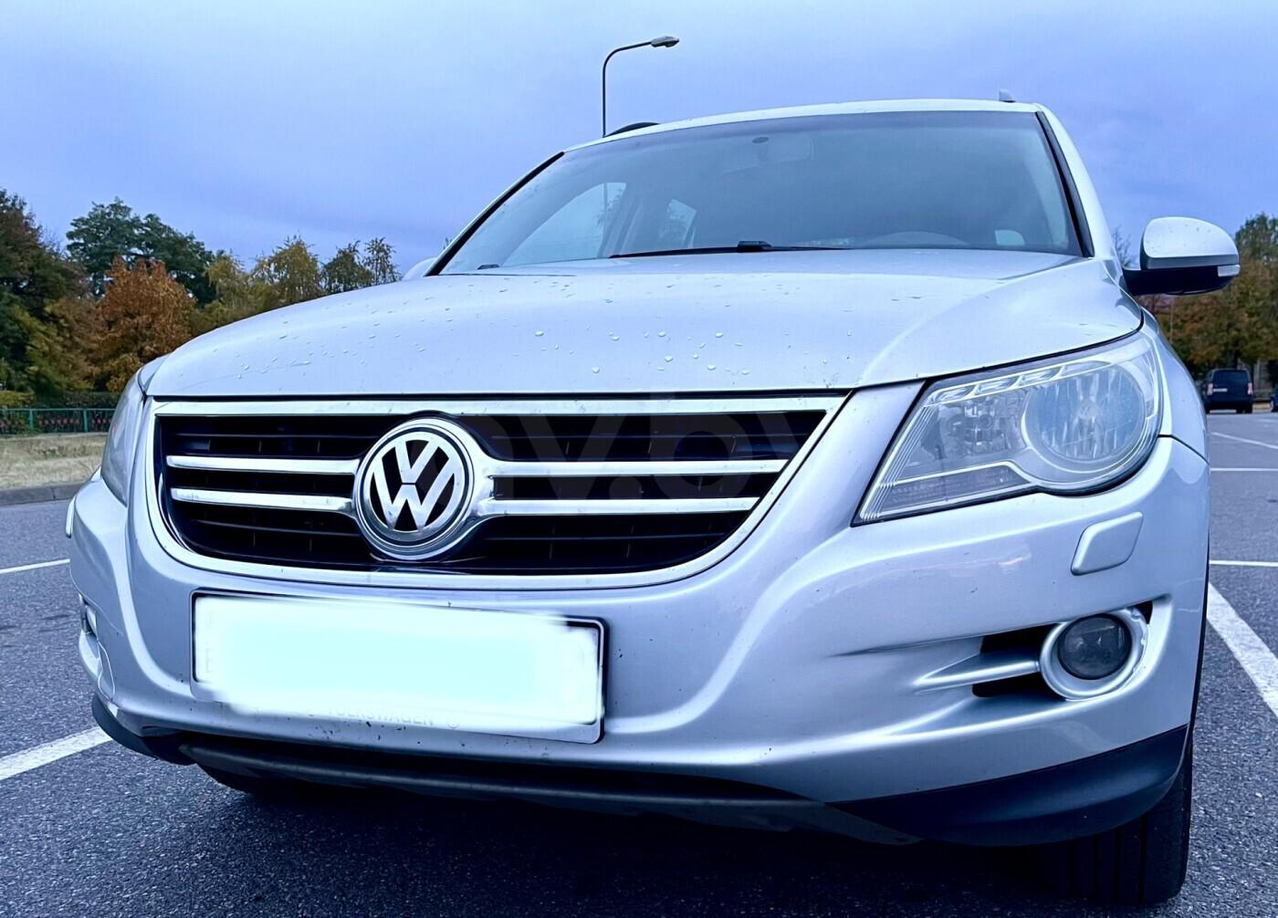Tiguan_2007-2011: (64, 93, 1243, 898)
